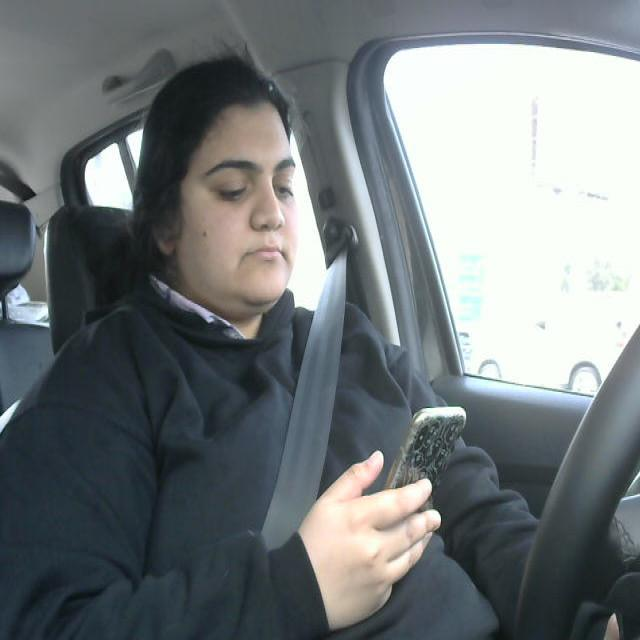mobile use: (384, 397, 474, 539)
